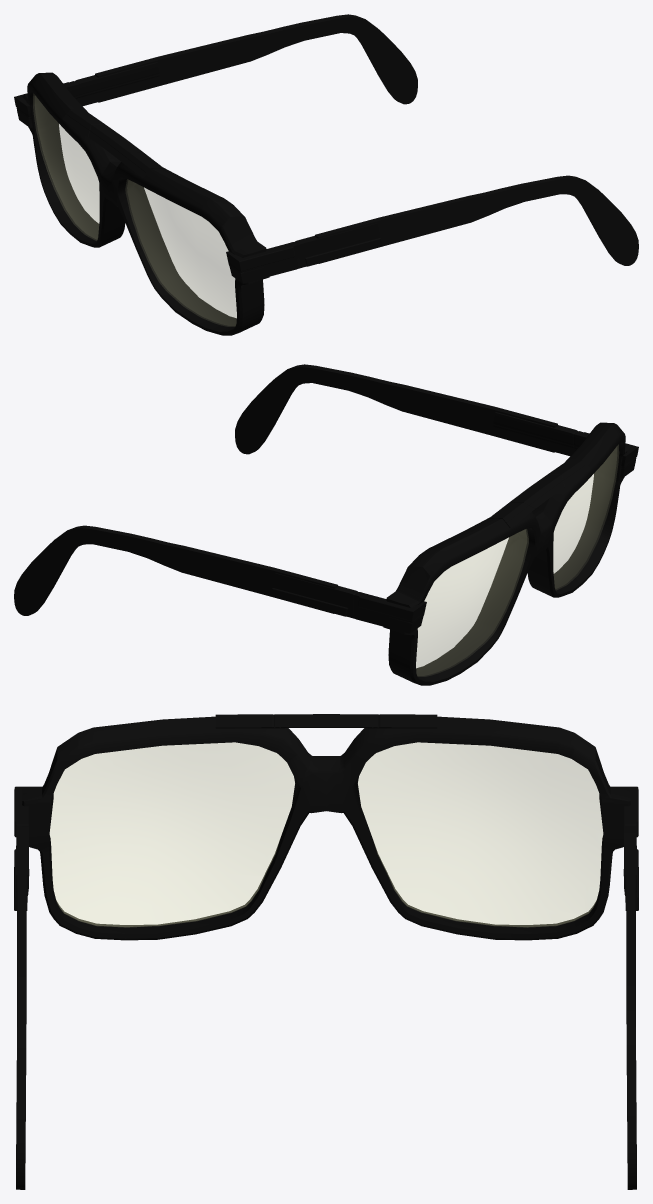
The model's file is gunnar.gltf.
The picture shows the model from 3 angles, top to bottom: view 1: azimuth 30°, elevation 25°; view 2: azimuth 150°, elevation 25°; view 3: azimuth 270°, elevation 25°; orthographic projection. The views are drawn at different scales.
Parts seen in each view (by area): view 1: Bridge_2, Lens_3; view 2: Bridge_2, Lens_3; view 3: Lens_3, Bridge_2.
Boxes of the visible parts, x1,y1,x2,y2 form: Bridge_2: (14, 14, 638, 335); Lens_3: (33, 95, 236, 326); Bridge_2: (14, 364, 638, 685); Lens_3: (416, 445, 618, 676); Lens_3: (50, 742, 602, 927); Bridge_2: (14, 714, 638, 1189).
Size of the model in its own units: 0.6971 by 0.2292 by 0.6398.
